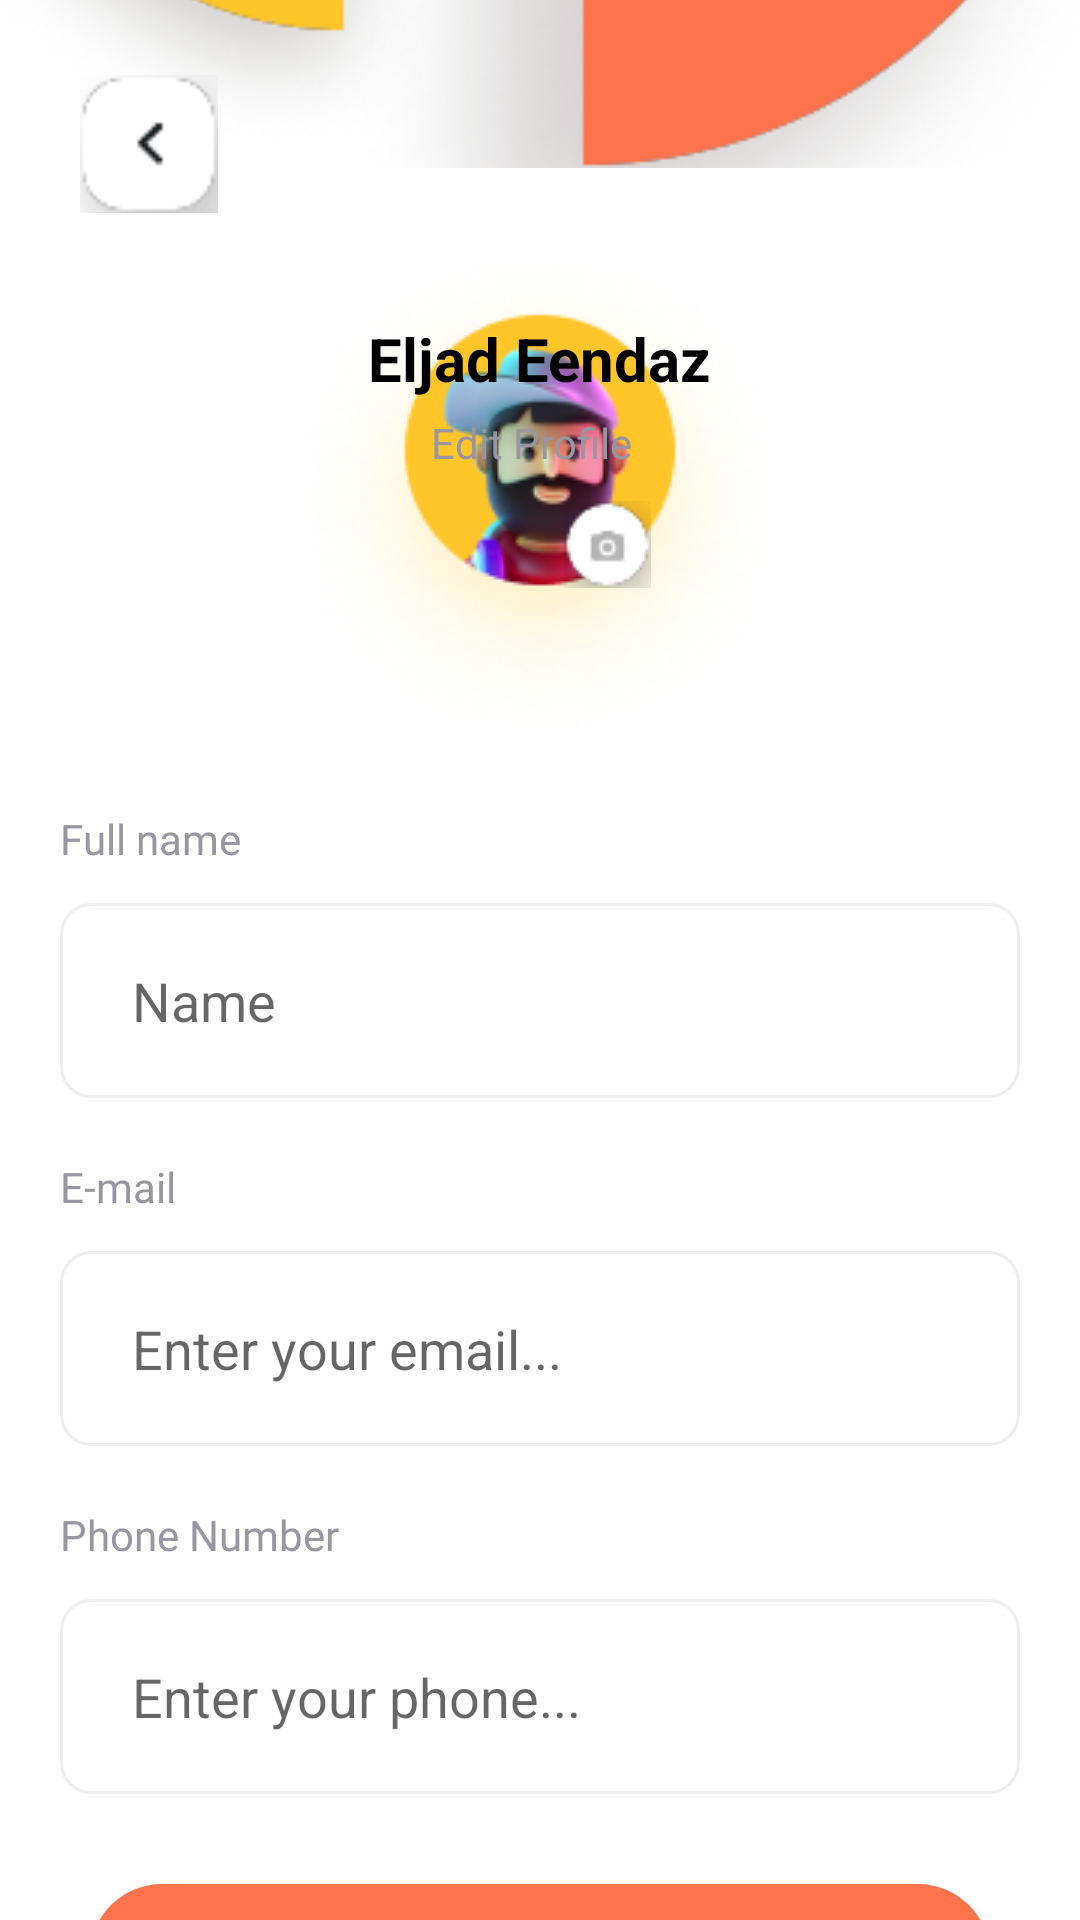

Icon click points for this 1080x1920 phone screenshot, format point (x, y):
back: point (150, 145)
